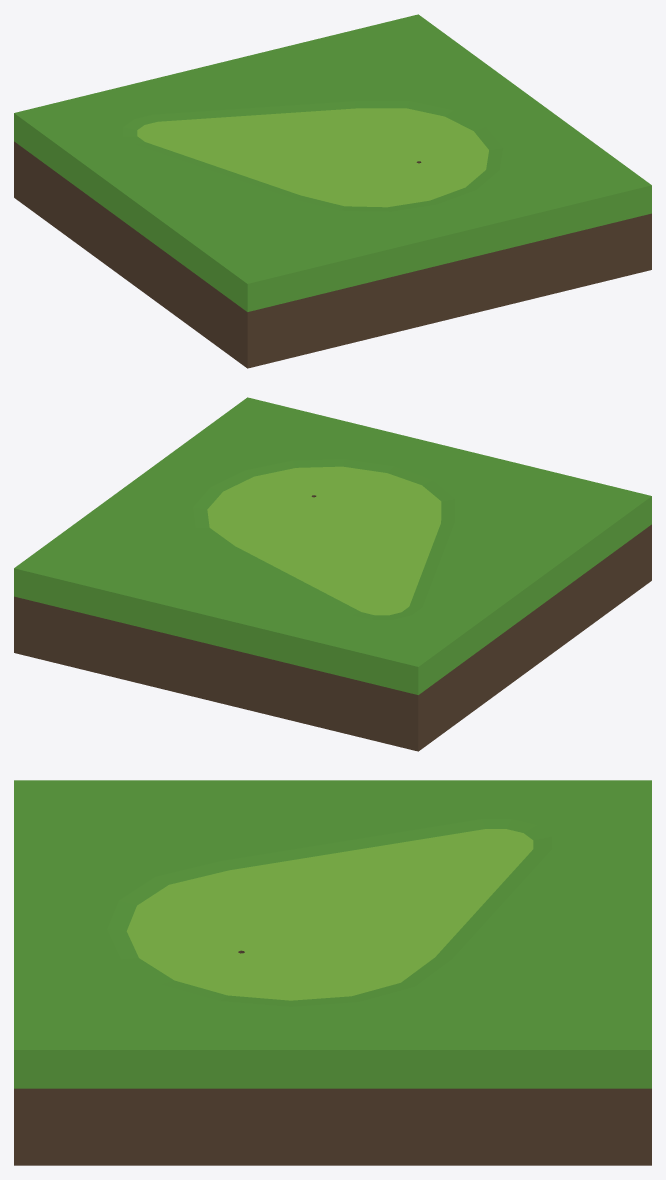
The model's file is tile-golf-green.glb.
3 renders of one model, top to bottom at view 1: azimuth 30°, elevation 25°; view 2: azimuth 150°, elevation 25°; view 3: azimuth 270°, elevation 25°, orthographic. The views are drawn at different scales.
Visible parts, largest first — view 1: tile-golf-green; view 2: tile-golf-green; view 3: tile-golf-green.
Boxes of the visible parts, <box> form: tile-golf-green: <box>14,14,651,368</box>; tile-golf-green: <box>14,397,651,751</box>; tile-golf-green: <box>14,780,651,1165</box>.
Size of the model in its own units: 30 by 6 by 30.
Materials: 1 (1 with a texture image).
